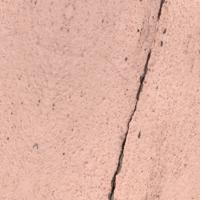crack: (105, 0, 165, 199)
